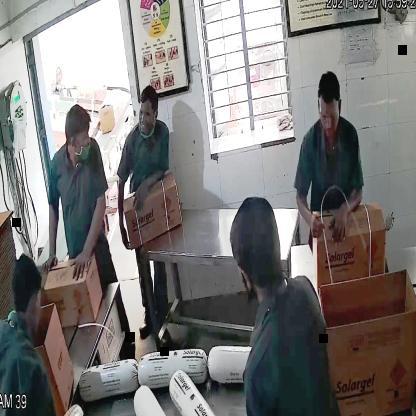no_goggles: (316, 108, 342, 128), (66, 128, 92, 148)
